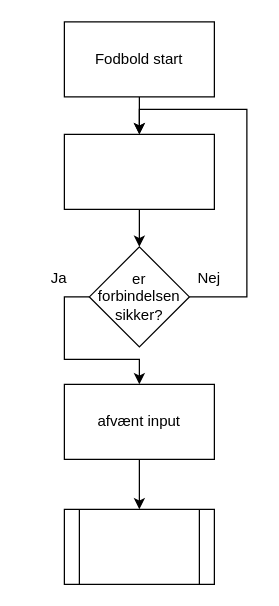
Image size: 279x606. Some labels were removed from this diagram. The shapes that lost their labels are listed below. From the top down, each one's centre as x and y in pixels, then its label:
the point at 138,171: gå på nettet
the point at 138,546: check input
